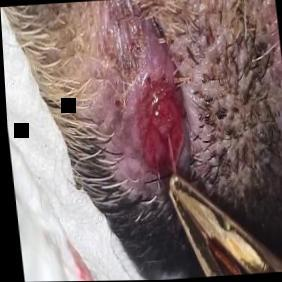skin_lesions: (127, 76, 194, 187)
